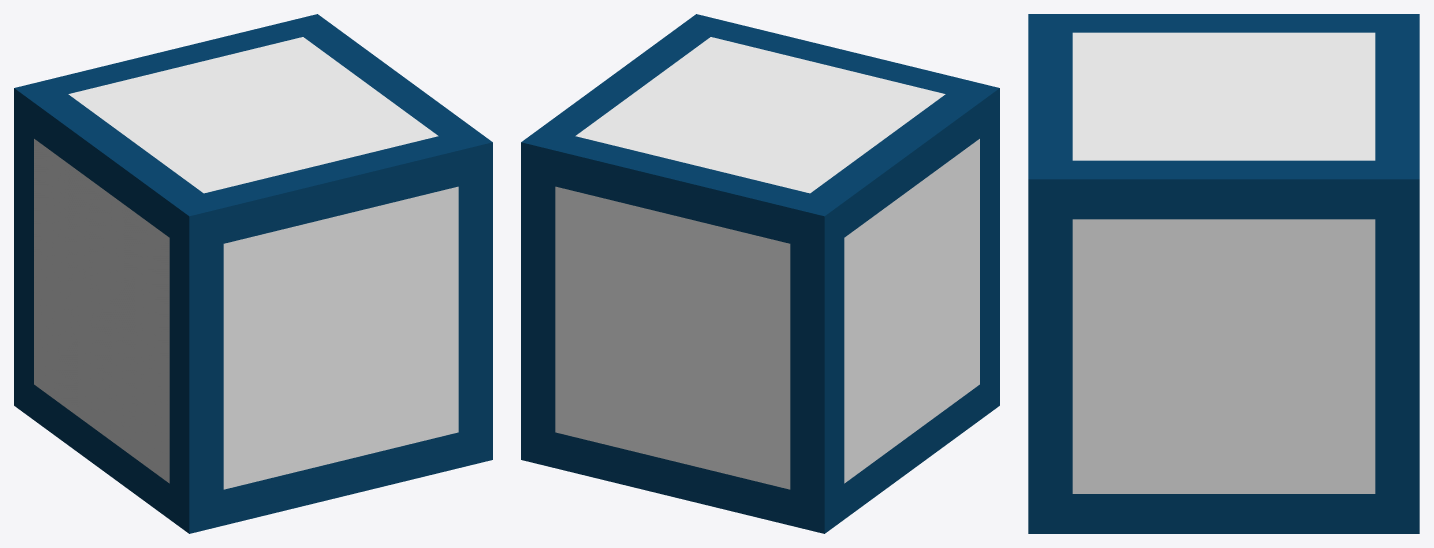
File: enemy.obj
3 renders of one model, left to right at view 1: azimuth 30°, elevation 25°; view 2: azimuth 150°, elevation 25°; view 3: azimuth 270°, elevation 25°, orthographic. The views are drawn at different scales.
Parts seen in each view (by area): view 1: Enemy; view 2: Enemy; view 3: Enemy.
Boxes of the visible parts, box(x1,y1,x2,y2) form: Enemy: box(14, 14, 492, 533); Enemy: box(521, 14, 999, 533); Enemy: box(1028, 14, 1419, 533).
Size of the model in its own units: 2 by 2 by 2.
1 material, 1 textured.
